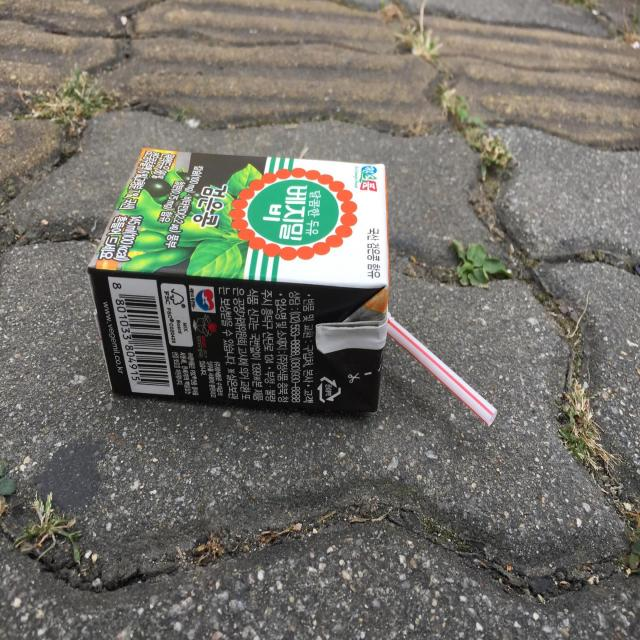paperpack: (88, 148, 390, 412)
